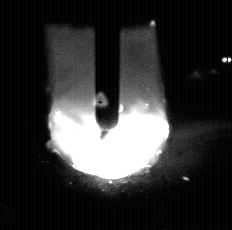arame: (95, 0, 121, 140)
poca: (50, 0, 169, 230)
